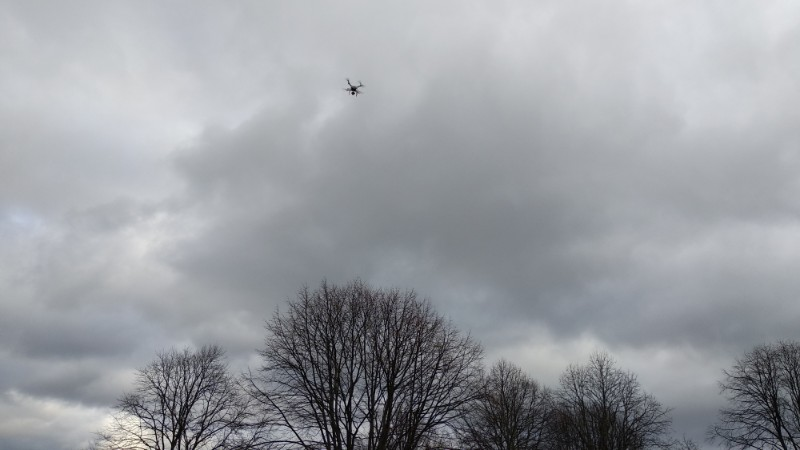drone: (343, 79, 366, 97)
